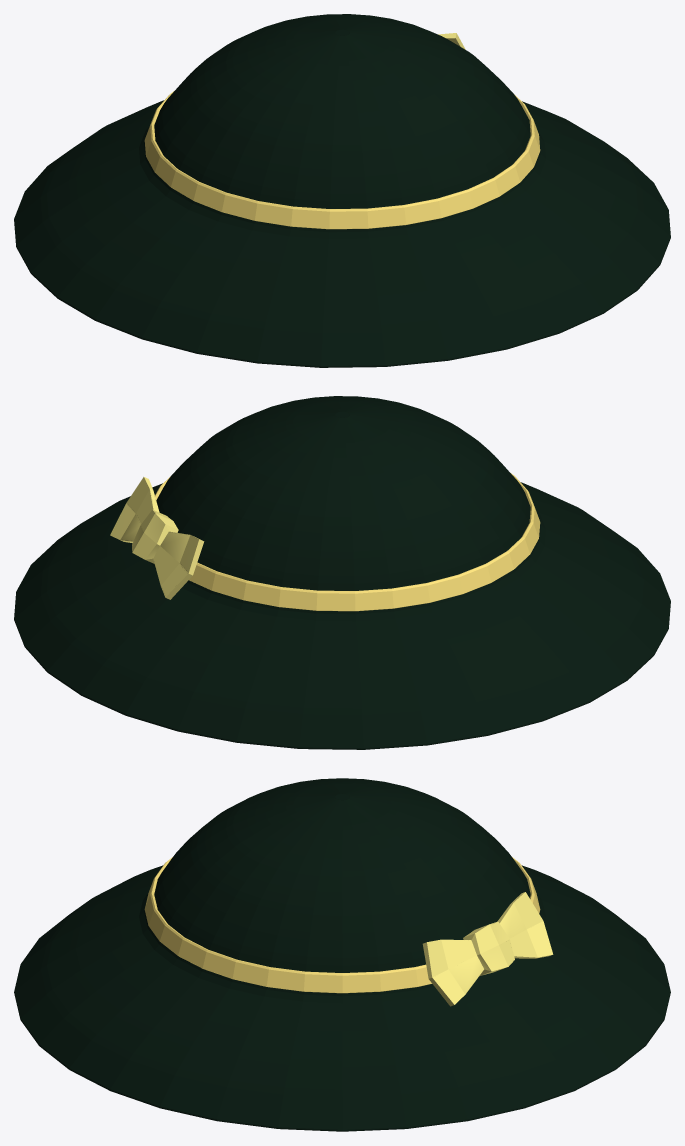
The model's file is StoneHat.fbx.
3 views of the same model, one above another, from view 1: azimuth 30°, elevation 25°; view 2: azimuth 150°, elevation 25°; view 3: azimuth 270°, elevation 25° (orthographic).
Parts seen in each view (by area): view 1: HatBody, Ribbon; view 2: HatBody, Ribbon, Bow; view 3: HatBody, Ribbon, Bow.
Boxes of the visible parts, x1,y1,x2,y2 form: HatBody: (14, 14, 670, 367); Ribbon: (144, 91, 540, 229); HatBody: (14, 396, 670, 749); Ribbon: (155, 473, 540, 611); Bow: (110, 477, 204, 599); HatBody: (14, 778, 670, 1131); Ribbon: (144, 857, 540, 993); Bow: (422, 892, 553, 1006).
Size of the model in its own units: 0.7942 by 0.2617 by 0.7942.
Materials: 3 (3 with a texture image).
